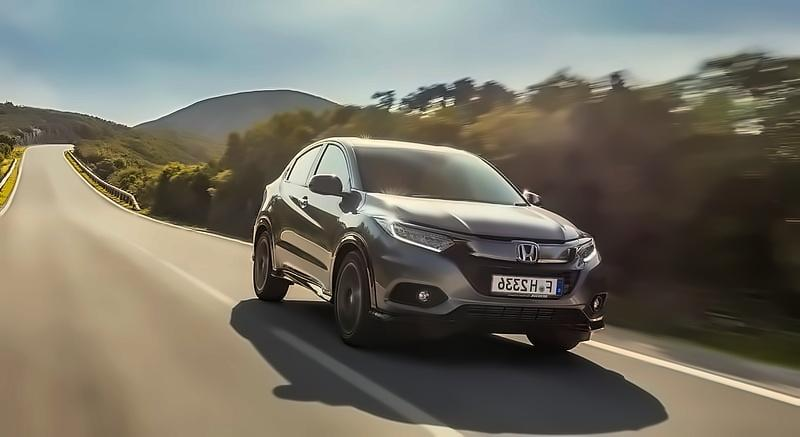Car hood: (362, 188, 588, 244)
Driver-s door - -F-R-: (292, 134, 358, 305)
Fender - -F-R-: (332, 190, 385, 321)
Front bumper: (356, 262, 609, 351)
Headlight - -L-: (562, 234, 594, 267)
Headlight - -R-: (389, 218, 460, 257)
Passenger-s door - -R-R-: (260, 136, 328, 293)
Side bumper - -R-: (268, 256, 335, 310)
Side mirror - -L-: (519, 185, 542, 209)
Side mirror - -R-: (307, 175, 356, 201)
